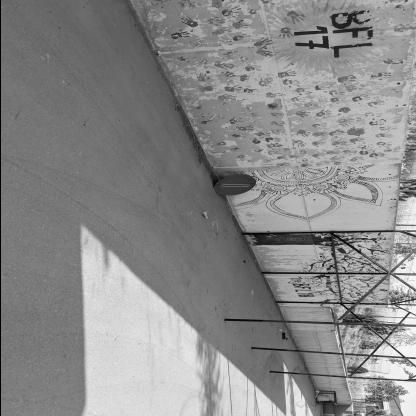No Waiting: (214, 177, 256, 197)
